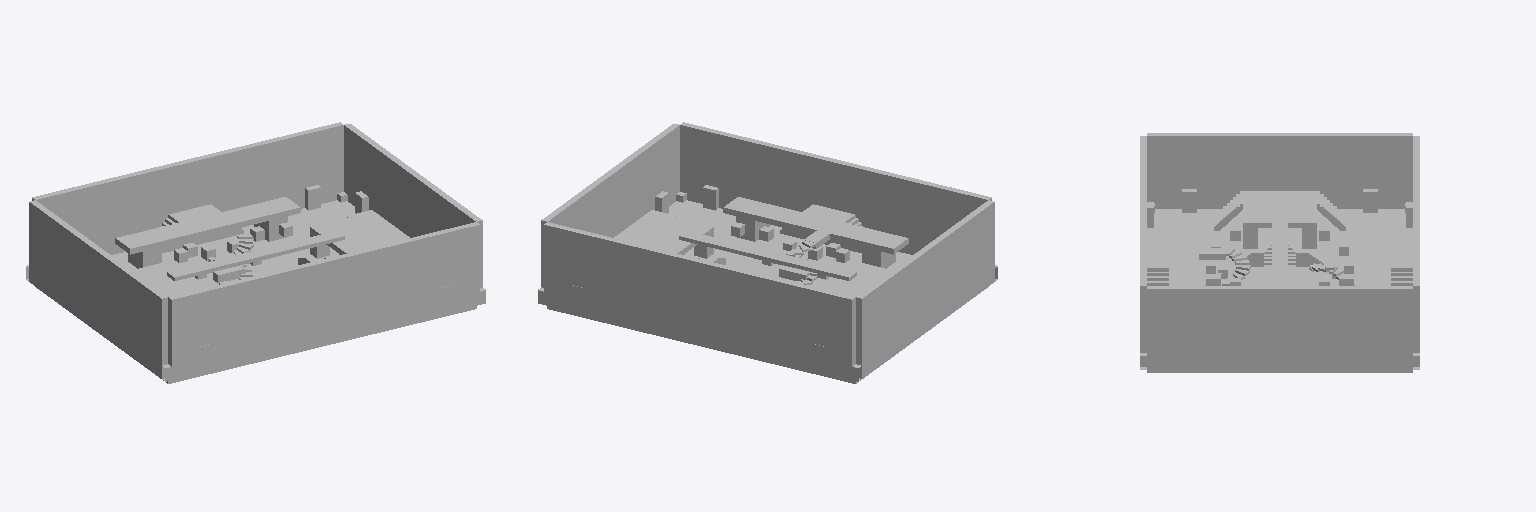
File: Reaper Rumble maybe getting somewhere 11.obj
The picture shows the model from 3 angles: view 1: azimuth 30°, elevation 25°; view 2: azimuth 150°, elevation 25°; view 3: azimuth 270°, elevation 25°; orthographic projection.
Parts seen in each view (by area): view 1: Plane_Plane.001; view 2: Plane_Plane.001; view 3: Plane_Plane.001.
Part boxes in pixels (x1,y1,x2,y2): Plane_Plane.001: (26,122,485,383); Plane_Plane.001: (538,122,997,383); Plane_Plane.001: (1140,133,1419,372).
Size of the model in its own units: 25.1 by 6.72 by 19.